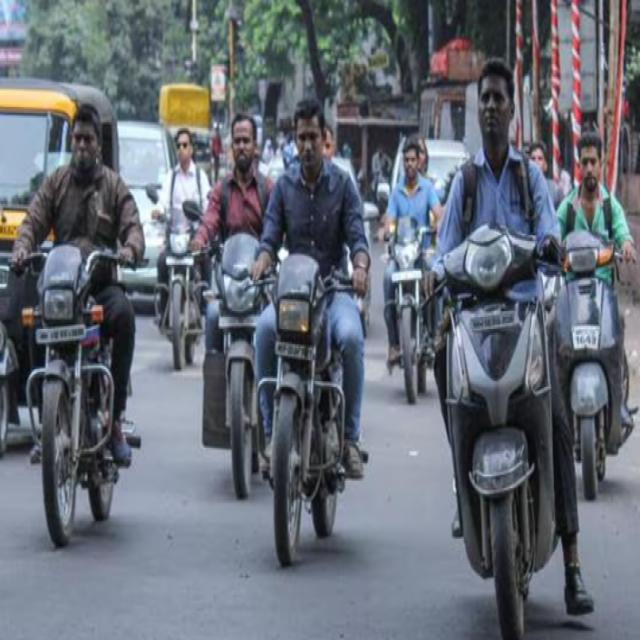WithoutHelmet: (435, 60, 597, 621), (7, 99, 146, 471), (252, 98, 369, 481), (556, 126, 640, 427), (193, 115, 271, 363), (385, 142, 442, 366), (160, 127, 211, 302)
